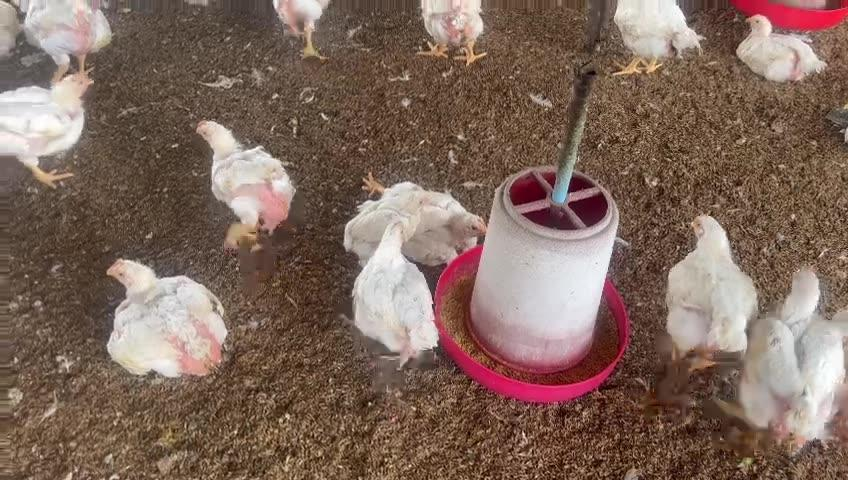AbNormal: (103, 258, 225, 377), (363, 172, 485, 264), (343, 190, 431, 264), (735, 15, 824, 80)
Normal: (742, 263, 842, 444), (664, 215, 759, 367), (194, 121, 293, 249), (352, 219, 437, 361), (0, 73, 93, 190), (18, 1, 115, 83), (611, 0, 703, 73), (418, 0, 488, 62), (269, 0, 336, 60)
